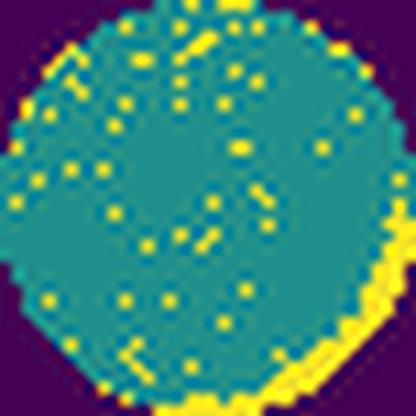Edge-Loc: (149, 192, 415, 416)
